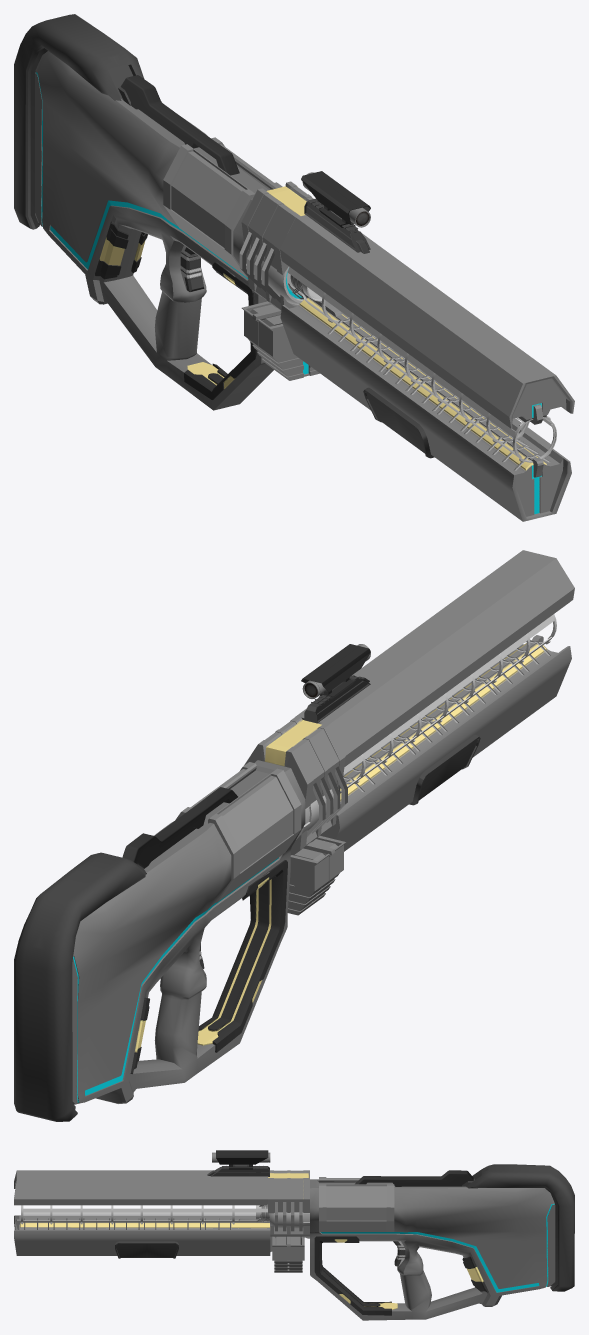
File: Sniper_Railgun.fbx
3 renders of one model, top to bottom at view 1: azimuth 30°, elevation 25°; view 2: azimuth 150°, elevation 25°; view 3: azimuth 270°, elevation 25°, orthographic. The views are drawn at different scales.
Visible parts, largest first — view 1: Rail_Gun; view 2: Rail_Gun; view 3: Rail_Gun.
Boxes of the visible parts, x1,y1,x2,y2 form: Rail_Gun: (14, 14, 574, 521); Rail_Gun: (14, 550, 574, 1121); Rail_Gun: (14, 1150, 574, 1320).
Bounding box in the file's own units: 0.0373 × 0.127 × 0.3938.
Materials: 1 (1 with a texture image).
